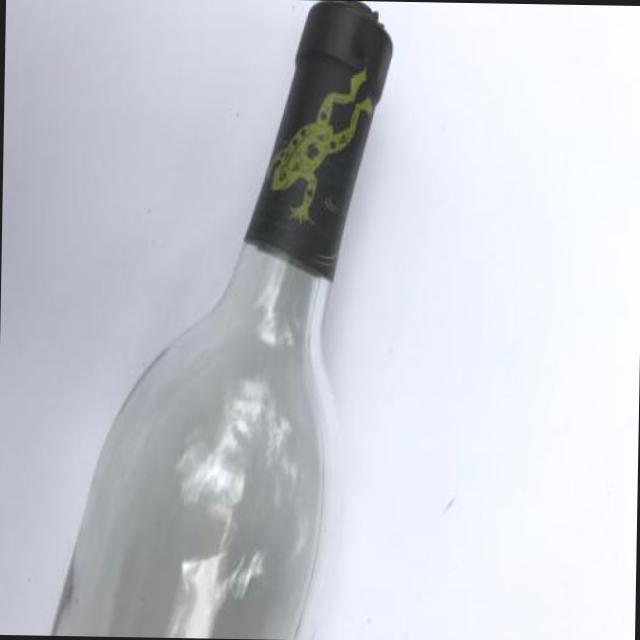chai_thuy_tinh: (50, 0, 392, 639)
